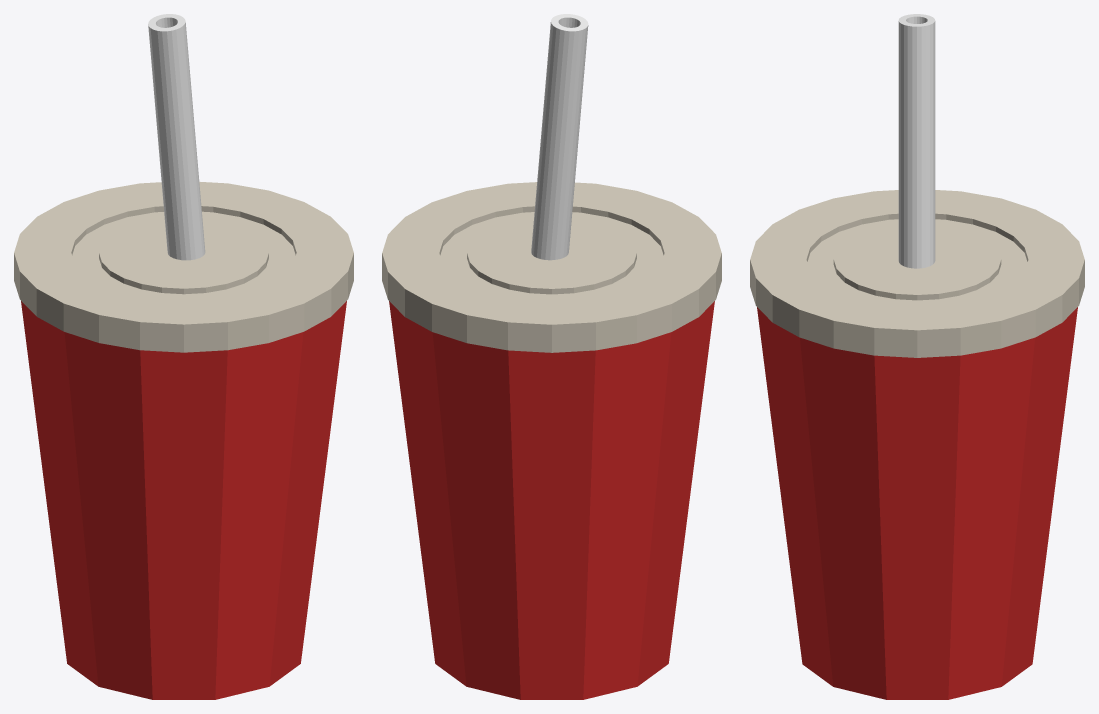
Rendered from Fast Food Cup 1.obj.
The picture shows the model from 3 angles, left to right: view 1: azimuth 30°, elevation 25°; view 2: azimuth 150°, elevation 25°; view 3: azimuth 270°, elevation 25°; orthographic projection.
Visible parts, largest first — view 1: Fast_Food_Cup_1; view 2: Fast_Food_Cup_1; view 3: Fast_Food_Cup_1.
Part boxes in pixels (left/top/right/bottom): Fast_Food_Cup_1: left=14, top=14, right=353, bottom=699; Fast_Food_Cup_1: left=382, top=14, right=721, bottom=699; Fast_Food_Cup_1: left=750, top=14, right=1084, bottom=699.
Size of the model in its own units: 0.5818 by 1.2 by 0.5818.
